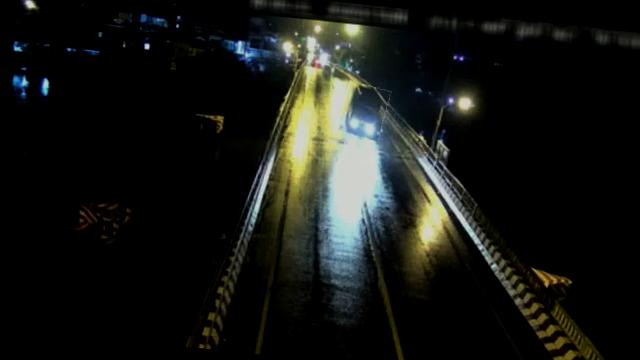Truck: (338, 82, 389, 140)
